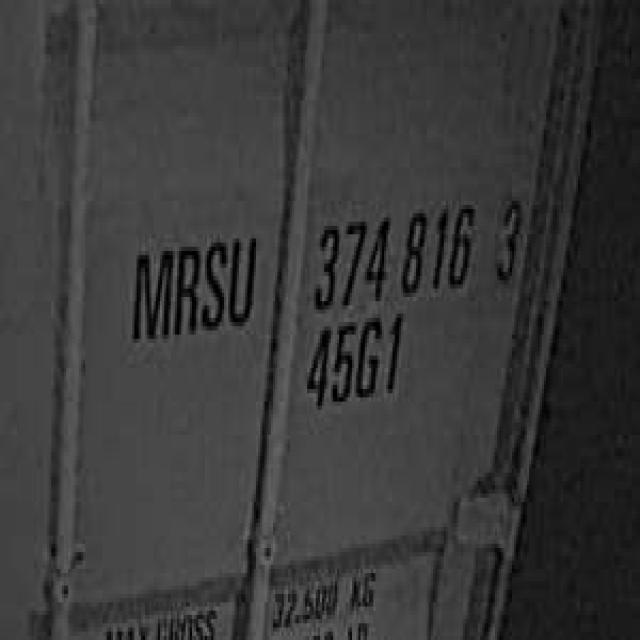dv: (490, 180, 524, 288)
owner: (126, 218, 260, 352)
serial: (305, 188, 478, 318)
size: (300, 301, 410, 418)
